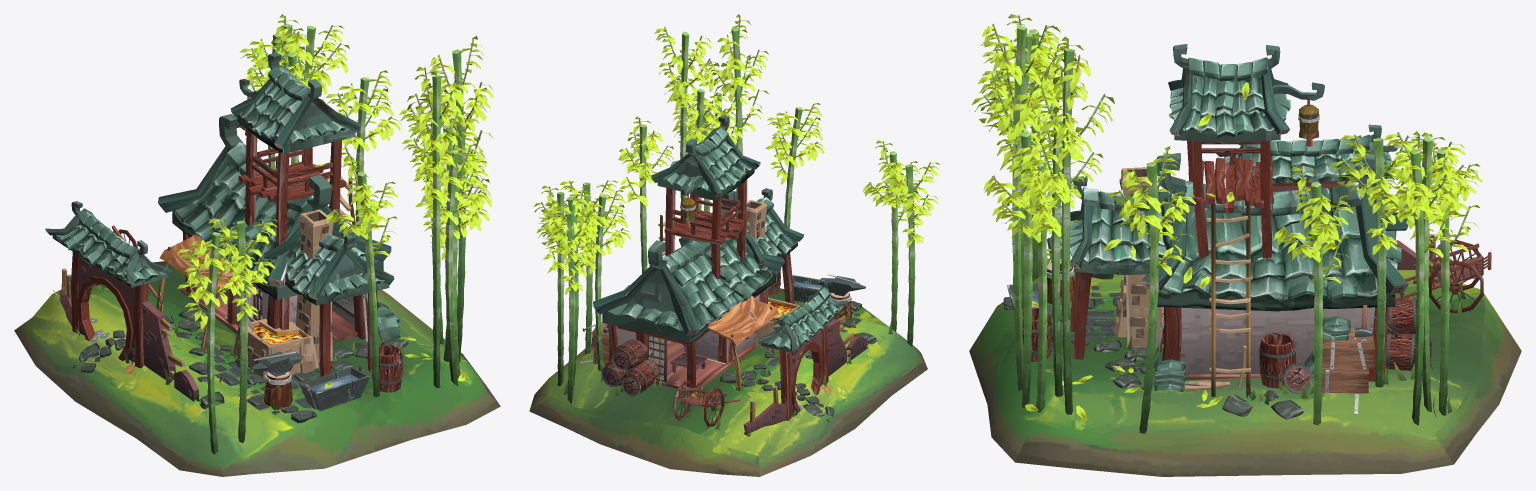
Rendered from house2.glb.
3 views of the same model, side by side, from view 1: azimuth 30°, elevation 25°; view 2: azimuth 150°, elevation 25°; view 3: azimuth 270°, elevation 25° (orthographic). The views are drawn at different scales.
Visible parts, largest first — view 1: Box1717_Material #20_0, Object014_Material #20_0, Object017_Material #20_0, Object026_Material #20_0, Object031_Material #20_0, Object025_Material #20_0, Object016_Material #20_0, Object018_Material #20_0, Object028_Material #20_0, Object019_Material #20_0, Object023_Material #20_0, Object022_Material #20_0 (+2 smaller); view 2: Box1717_Material #20_0, Object031_Material #20_0, Object026_Material #20_0, Object014_Material #20_0, Object023_Material #20_0, Object017_Material #20_0, Object022_Material #20_0, Object021_Material #20_0, Object025_Material #20_0, Object019_Material #20_0, Object020_Material #20_0, Object018_Material #20_0 (+4 smaller); view 3: Box1717_Material #20_0, Object031_Material #20_0, Object014_Material #20_0, Object022_Material #20_0, Object019_Material #20_0, Object018_Material #20_0, Object021_Material #20_0, Object016_Material #20_0, Object023_Material #20_0, Object028_Material #20_0, Object020_Material #20_0, Object026_Material #20_0 (+4 smaller).
Boxes of the visible parts, x1,y1,x2,y2 form: Box1717_Material #20_0: (14, 52, 500, 476); Object014_Material #20_0: (407, 66, 468, 388); Object017_Material #20_0: (177, 226, 252, 454); Object026_Material #20_0: (326, 157, 397, 396); Object031_Material #20_0: (423, 36, 493, 362); Object025_Material #20_0: (200, 218, 278, 442); Object016_Material #20_0: (415, 143, 490, 386); Object018_Material #20_0: (326, 70, 400, 235); Object028_Material #20_0: (423, 161, 492, 377); Object019_Material #20_0: (278, 25, 349, 94); Object023_Material #20_0: (240, 28, 309, 169); Object022_Material #20_0: (399, 107, 475, 344); Box1717_Material #20_0: (529, 87, 927, 476); Object031_Material #20_0: (654, 27, 718, 237); Object026_Material #20_0: (765, 103, 824, 291); Object014_Material #20_0: (701, 14, 768, 217); Object023_Material #20_0: (536, 209, 600, 400); Object017_Material #20_0: (875, 162, 939, 346); Object022_Material #20_0: (618, 116, 673, 273); Object021_Material #20_0: (575, 190, 630, 371); Object025_Material #20_0: (863, 140, 919, 331); Object019_Material #20_0: (534, 185, 587, 386); Object020_Material #20_0: (543, 185, 602, 385); Object018_Material #20_0: (554, 180, 617, 354); Box1717_Material #20_0: (969, 44, 1521, 476); Object031_Material #20_0: (1029, 36, 1114, 414); Object014_Material #20_0: (978, 24, 1063, 390); Object022_Material #20_0: (1107, 146, 1195, 433); Object019_Material #20_0: (1366, 131, 1462, 425); Object018_Material #20_0: (1274, 166, 1353, 425); Object021_Material #20_0: (1330, 134, 1422, 387); Object016_Material #20_0: (983, 117, 1052, 407); Object023_Material #20_0: (1397, 132, 1482, 415); Object028_Material #20_0: (992, 147, 1080, 412); Object020_Material #20_0: (1383, 132, 1475, 411); Object026_Material #20_0: (972, 70, 1063, 309).
Size of the model in its own units: 238 by 234 by 287.
Materials: 1 (1 with a texture image).
